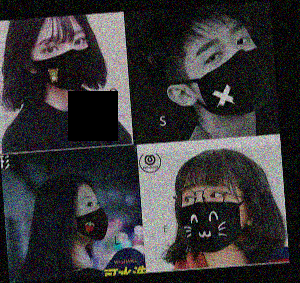with_mask: (185, 21, 265, 115), (177, 180, 250, 254), (31, 28, 92, 92), (75, 192, 110, 242)
